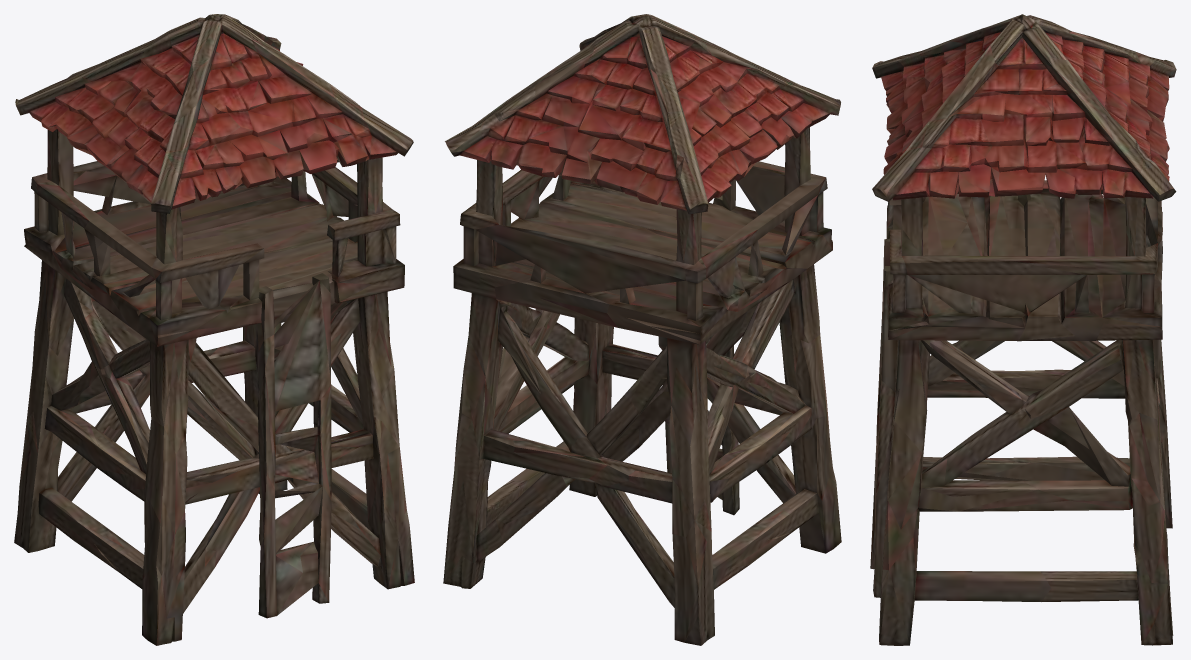
File: watchtower_3d.glb
The picture shows the model from 3 angles, left to right: view 1: azimuth 30°, elevation 25°; view 2: azimuth 150°, elevation 25°; view 3: azimuth 270°, elevation 25°; orthographic projection. The views are drawn at different scales.
Parts seen in each view (by area): view 1: Mesh_0; view 2: Mesh_0; view 3: Mesh_0.
Part boxes in pixels (x1=…): Mesh_0: x1=14, y1=14, x2=414, y2=645; Mesh_0: x1=443, y1=14, x2=841, y2=645; Mesh_0: x1=870, y1=14, x2=1176, y2=645.
Size of the model in its own units: 2.02 by 4 by 1.97.
1 material, 1 textured.
